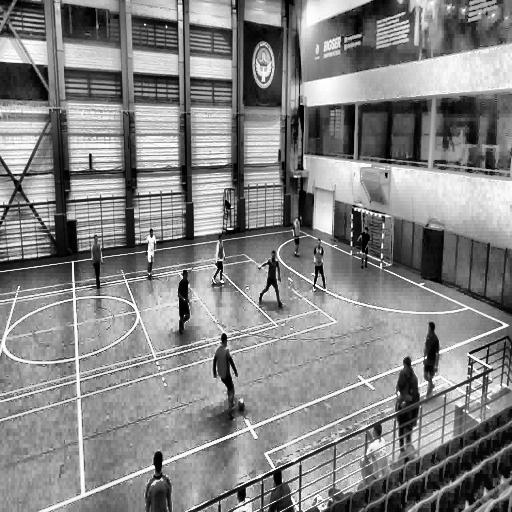ball: (238, 398, 244, 411)
player: (213, 330, 242, 420), (258, 250, 283, 310), (422, 324, 440, 392), (178, 269, 190, 334), (212, 233, 226, 284), (313, 239, 326, 290), (91, 234, 103, 287), (357, 226, 370, 270), (145, 228, 156, 278), (292, 215, 302, 258)
